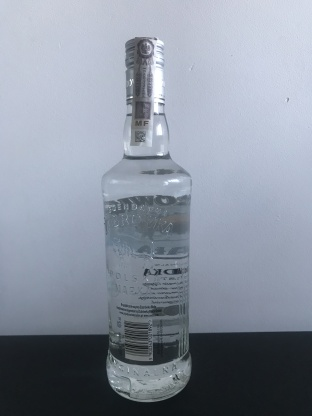nakretka: (122, 33, 168, 109)
